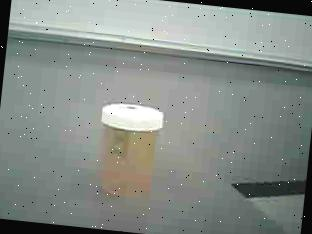Bottle B: (87, 94, 170, 208)
